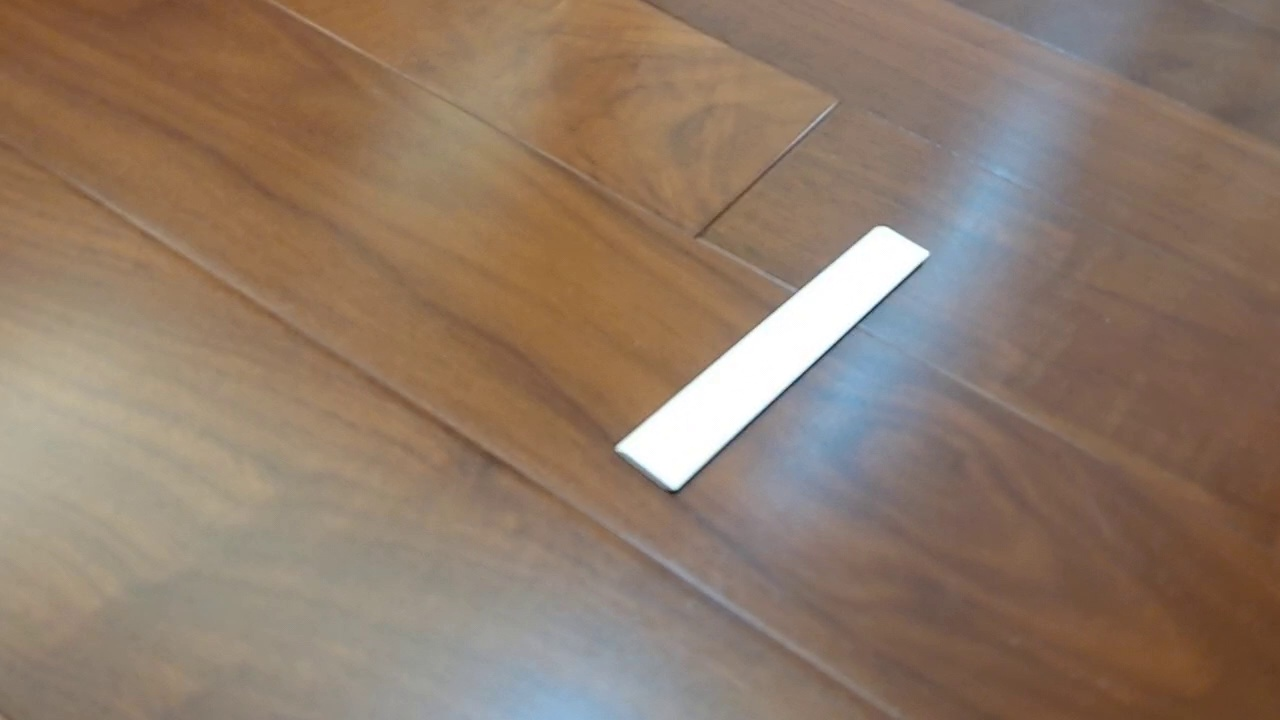ruler: (612, 222, 932, 496)
